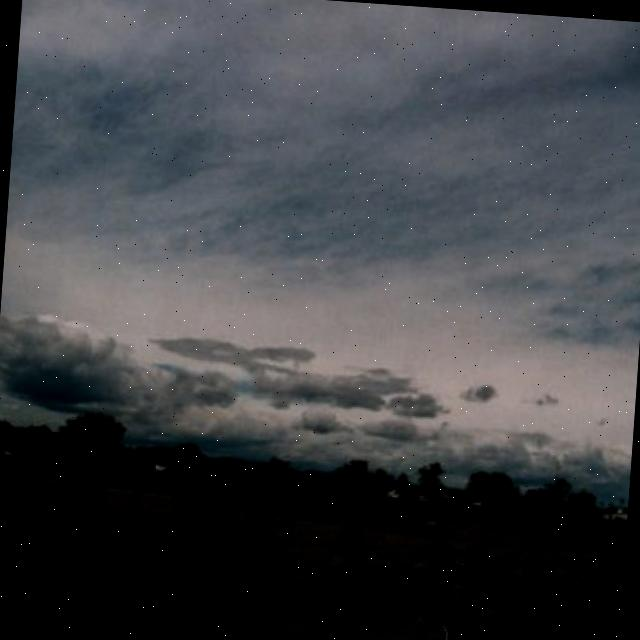Cs: (1, 11, 640, 440)
